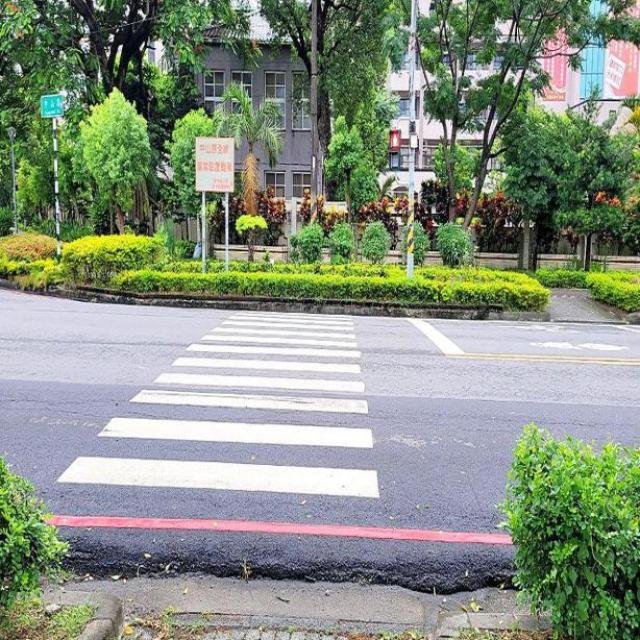pedestrian lane: (55, 315, 379, 503)
